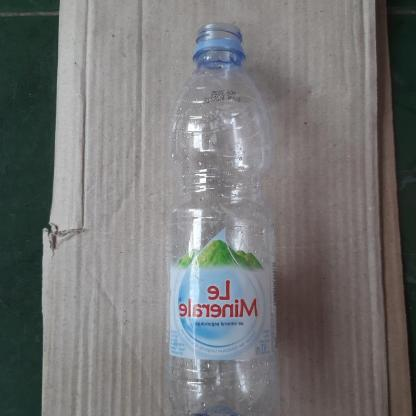Plastic Bottle: (166, 21, 282, 416)
